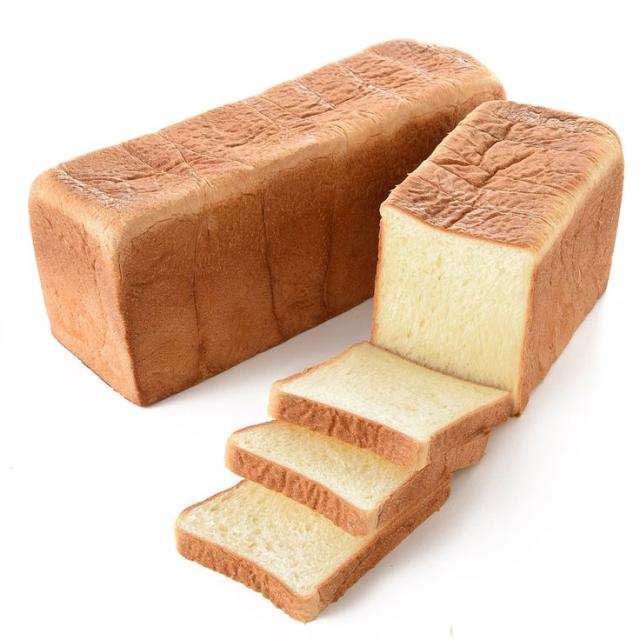sliced_bread: (177, 476, 450, 622), (269, 342, 510, 470), (227, 421, 413, 522)
